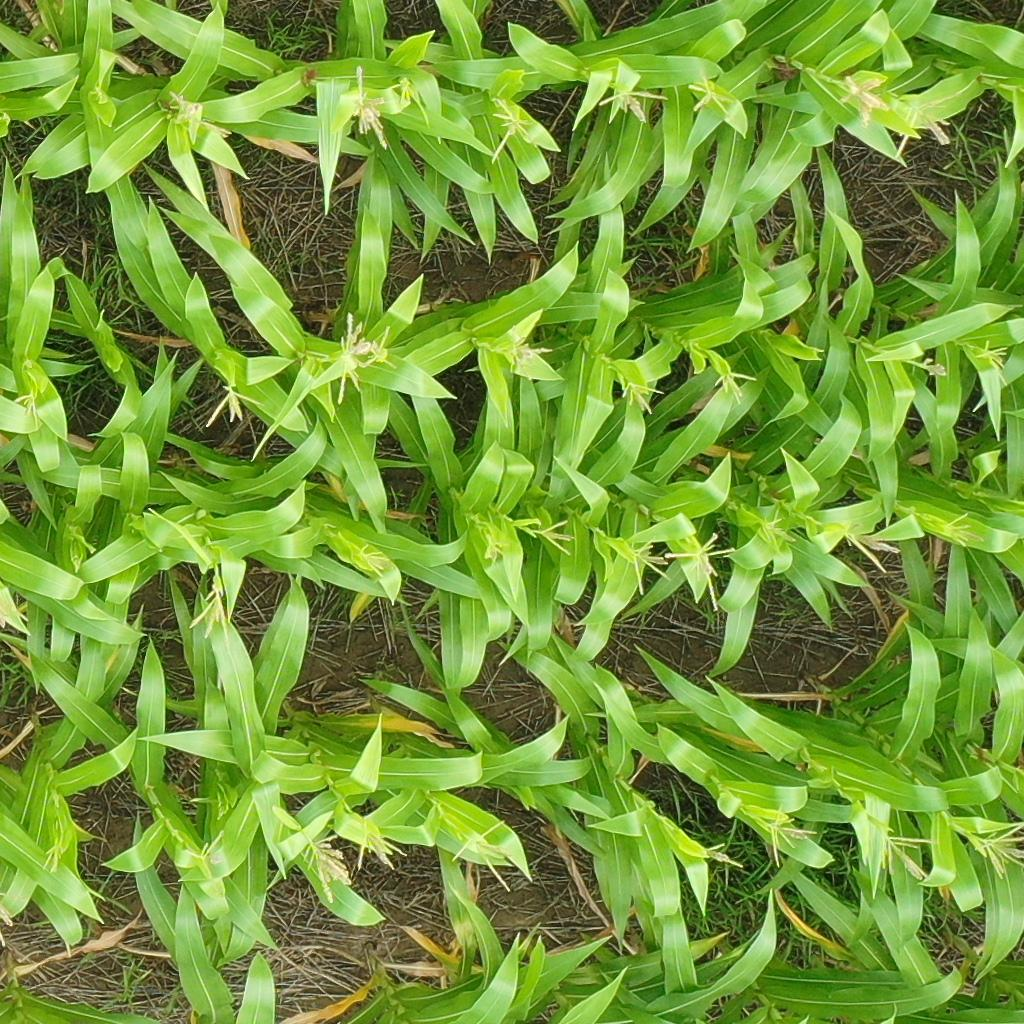Tassel: (664, 531, 735, 614), (449, 814, 516, 892), (322, 310, 367, 411), (893, 94, 955, 160), (344, 62, 389, 146), (302, 831, 355, 899), (769, 805, 820, 871), (485, 97, 535, 162), (968, 823, 1024, 881), (877, 828, 936, 882), (164, 90, 231, 137), (626, 531, 673, 594), (505, 325, 554, 384), (201, 385, 262, 431), (597, 85, 669, 123), (839, 72, 887, 126), (189, 580, 230, 643), (684, 70, 737, 117), (355, 825, 406, 872), (840, 520, 902, 556), (935, 510, 985, 548), (535, 517, 579, 557), (362, 323, 399, 370), (713, 370, 759, 407), (619, 379, 666, 415), (974, 340, 1011, 383), (12, 379, 42, 432), (701, 840, 746, 872), (758, 514, 795, 551), (188, 832, 227, 866), (357, 540, 391, 578), (391, 73, 425, 110), (481, 530, 509, 570), (1, 889, 15, 949), (42, 841, 66, 873), (918, 357, 952, 375), (90, 86, 106, 101)
